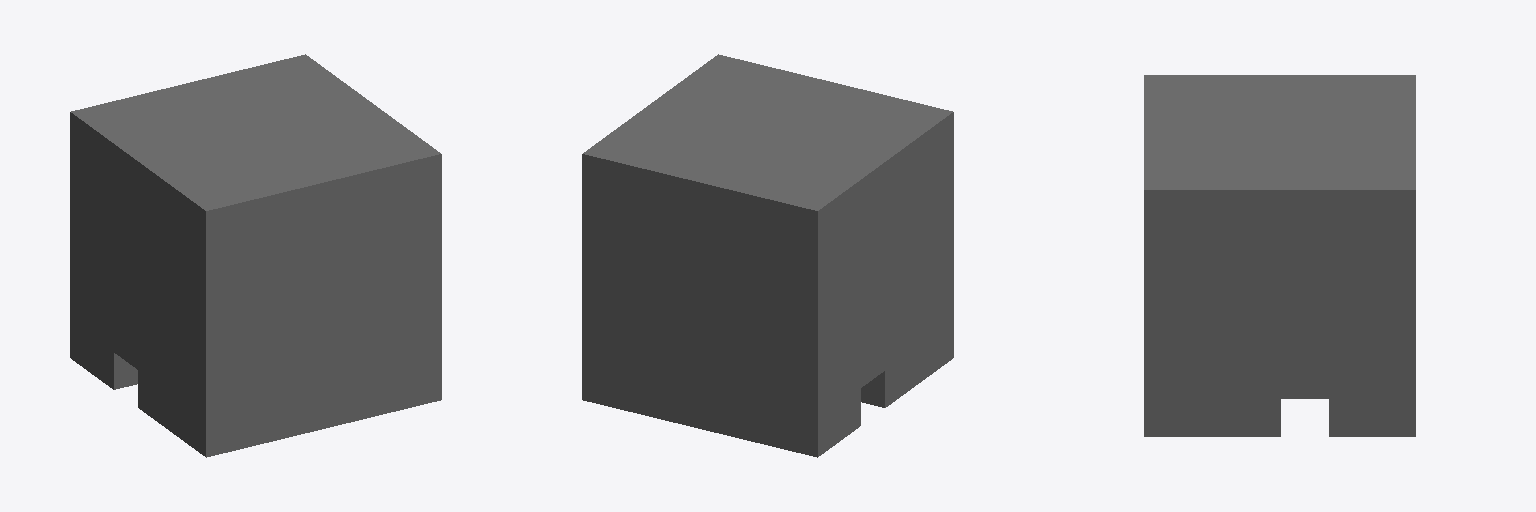
File: cubev1.obj
3 renders of one model, left to right at view 1: azimuth 30°, elevation 25°; view 2: azimuth 150°, elevation 25°; view 3: azimuth 270°, elevation 25°, orthographic.
Visible parts, largest first — view 1: Plane; view 2: Plane; view 3: Plane.
Part boxes in pixels (x1,y1,x2,y2): Plane: (70,54,441,457); Plane: (582,54,953,457); Plane: (1144,75,1415,436).
Bounding box in the file's own units: 2 × 2 × 2.